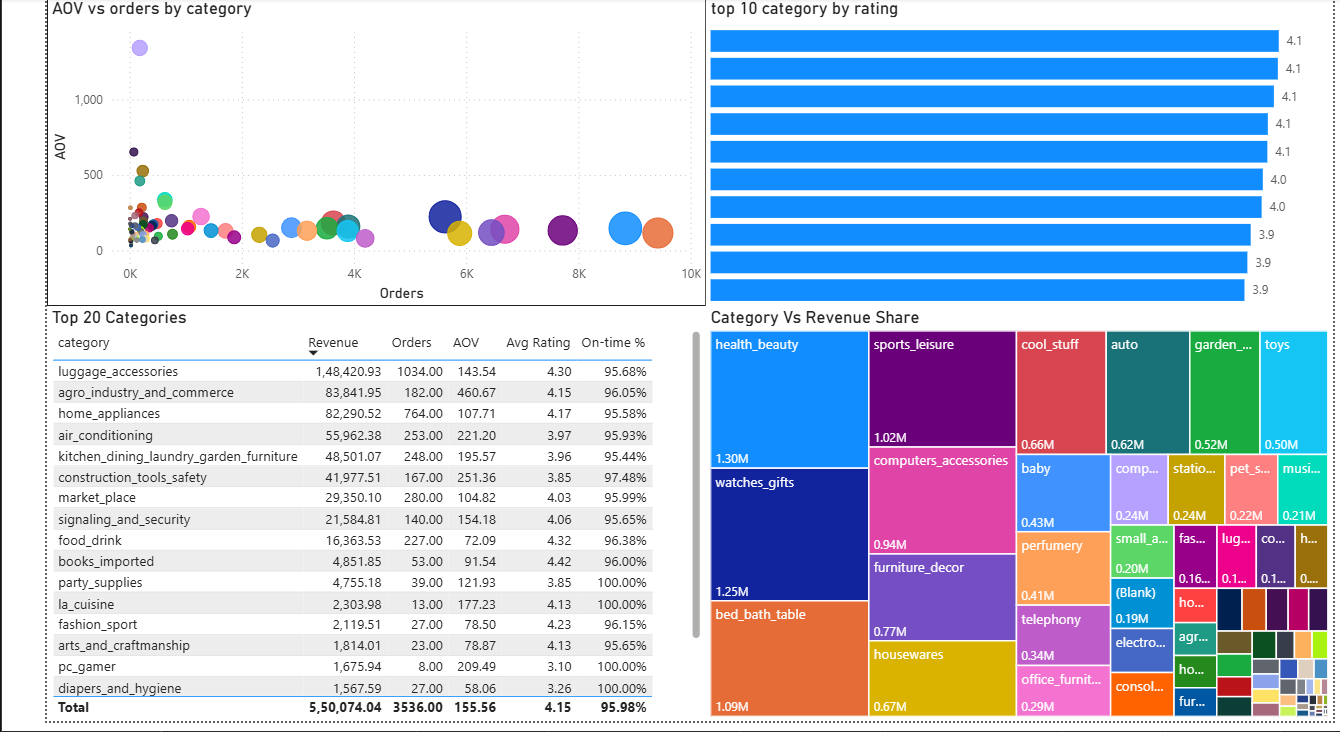

This screenshot's page, from the dashboard's own definition file:
{"tool":"powerbi","page":{"name":"Category Vs Product","canvas":[1280,720],"ordinal":2},"visuals":[{"type":"treemap","title":"Category Vs Revenue Share ","fields":{"Group":["public bi_fact_sales.category"],"Values":["public bi_fact_sales.Revenue"]},"box":[655.7,307.1,624.3,412.9],"z":0},{"type":"scatterChart","title":"AOV vs orders by category  ","fields":{"X":["public bi_fact_sales.Orders"],"Y":["public bi_fact_sales.AOV"],"Series":["public bi_fact_sales.category"],"Size":["public bi_fact_sales.Revenue"]},"box":[0,0,655.7,307.1],"z":1000},{"type":"barChart","title":"top 10 category by rating","fields":{"Category":["public bi_fact_sales.category"],"Y":["public bi_fact_sales.Avg Rating"]},"box":[655.7,0,624.3,307.1],"z":2000},{"type":"tableEx","title":"Top 20 Categories","fields":{"Values":["public bi_fact_sales.category","public bi_fact_sales.Revenue","public bi_fact_sales.Orders","public bi_fact_sales.AOV","public bi_fact_sales.Avg Rating","public bi_fact_sales.On-time %"]},"box":[0,307.1,655.7,412.9],"z":3000}]}

Visuals, with their boxes in screenshot pixels (x1, y1, x2, y2), scaled from the page's 1280x720 canvas onto the 1340x732 screenshot:
"Category Vs Revenue Share " treemap: left=686, top=312, right=1339, bottom=731
"AOV vs orders by category  " scatterChart: left=0, top=0, right=686, bottom=312
"top 10 category by rating" barChart: left=686, top=0, right=1339, bottom=312
"Top 20 Categories" tableEx: left=0, top=312, right=686, bottom=731
